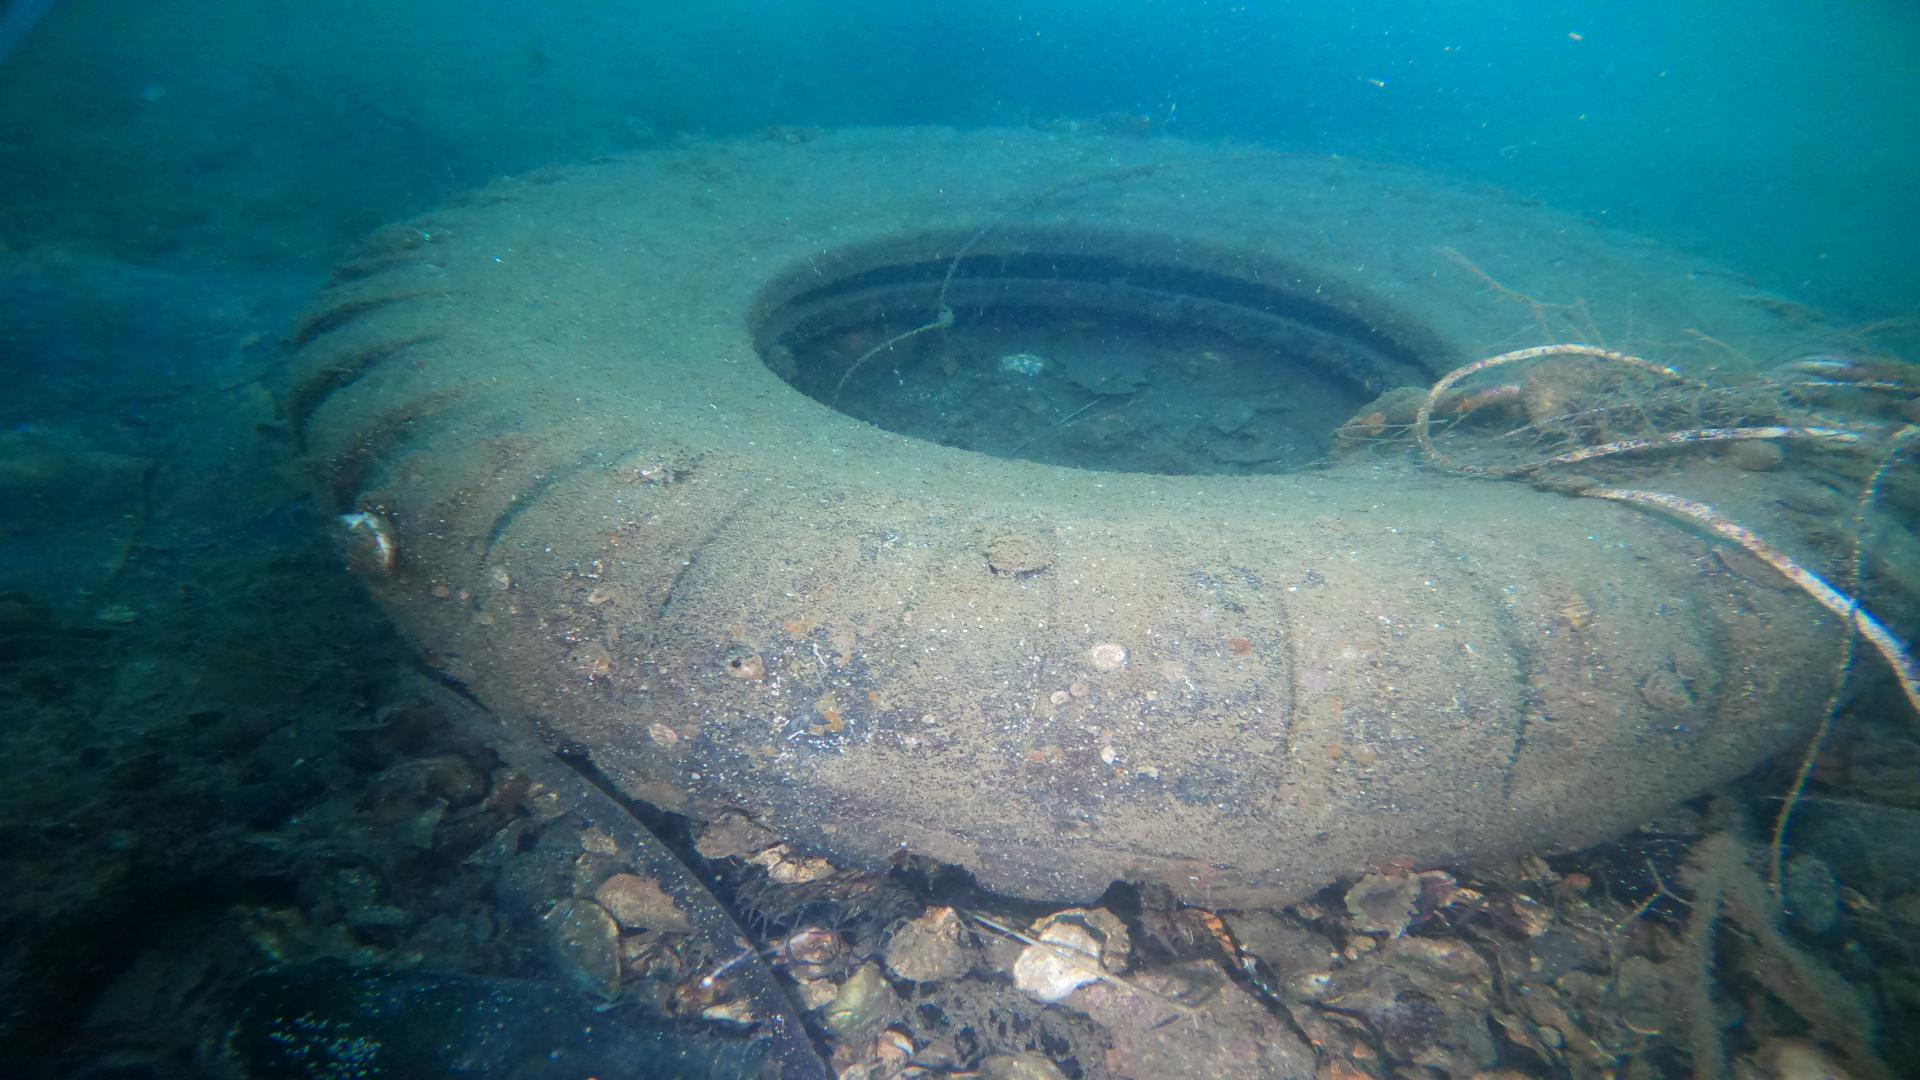tire: (277, 123, 1920, 909)
